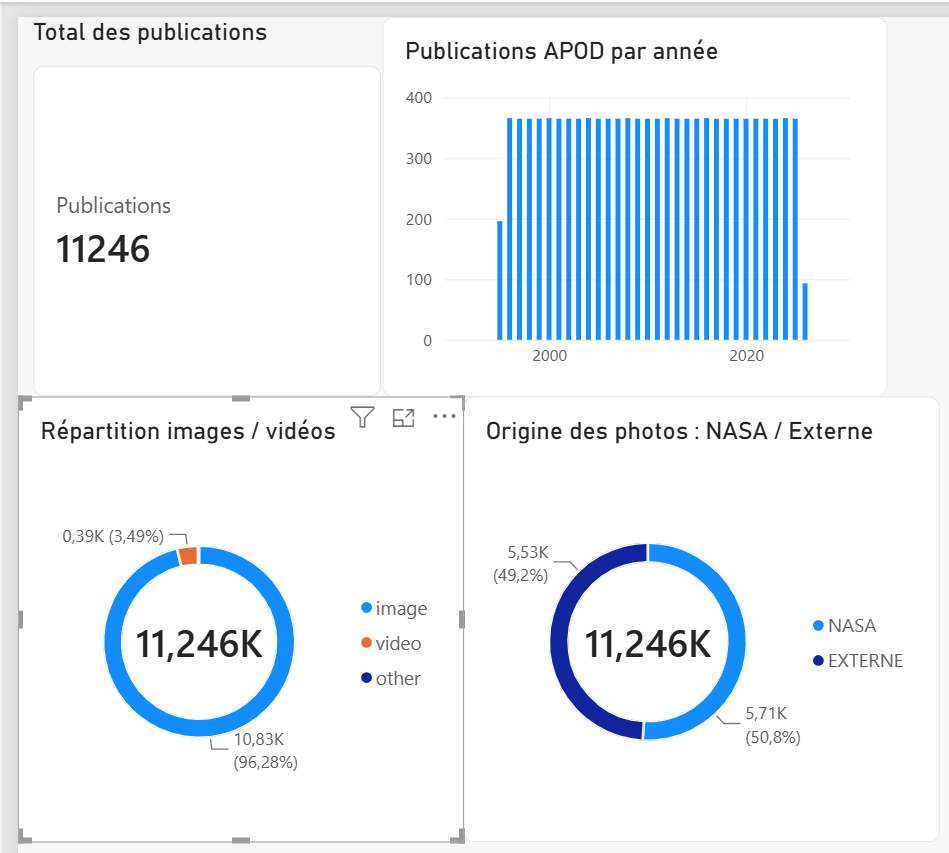

The page's visual inventory and layout, read from the dashboard file:
{"tool":"powerbi","page":{"name":"Page 1","canvas":[1920,1080],"ordinal":0},"visuals":[{"type":"cardVisual","title":"Total des publications ","fields":{"Data":["CountNonNull(apod.id)"]},"box":[11.4,0,258.6,281.4],"z":0},{"type":"clusteredColumnChart","title":" Publications APOD par année ","fields":{"Category":["apod.Année"],"Y":["CountNonNull(apod.id)"]},"box":[270,0,374.3,281.4],"z":1000},{"type":"donutChart","title":"Répartition images / vidéos ","fields":{"Category":["apod.media_type"],"Y":["CountNonNull(apod.id)"]},"box":[0,281.4,330,330],"z":2000},{"type":"donutChart","title":"Origine des photos : NASA / Externe","fields":{"Category":["apod.source photo"],"Y":["CountNonNull(apod.id)"]},"box":[330,281.4,352.9,330],"z":3000}]}

Visuals, with their boxes on the page's 1920x1080 design canvas (x1, y1, x2, y2). These are canvas units, not pixel positions in the 949x853 screenshot, which may show the page scaled, cropped or inside an application window:
"Total des publications " cardVisual: box=[11, 0, 270, 281]
" Publications APOD par année " clusteredColumnChart: box=[270, 0, 644, 281]
"Répartition images / vidéos " donutChart: box=[0, 281, 330, 611]
"Origine des photos : NASA / Externe" donutChart: box=[330, 281, 683, 611]
